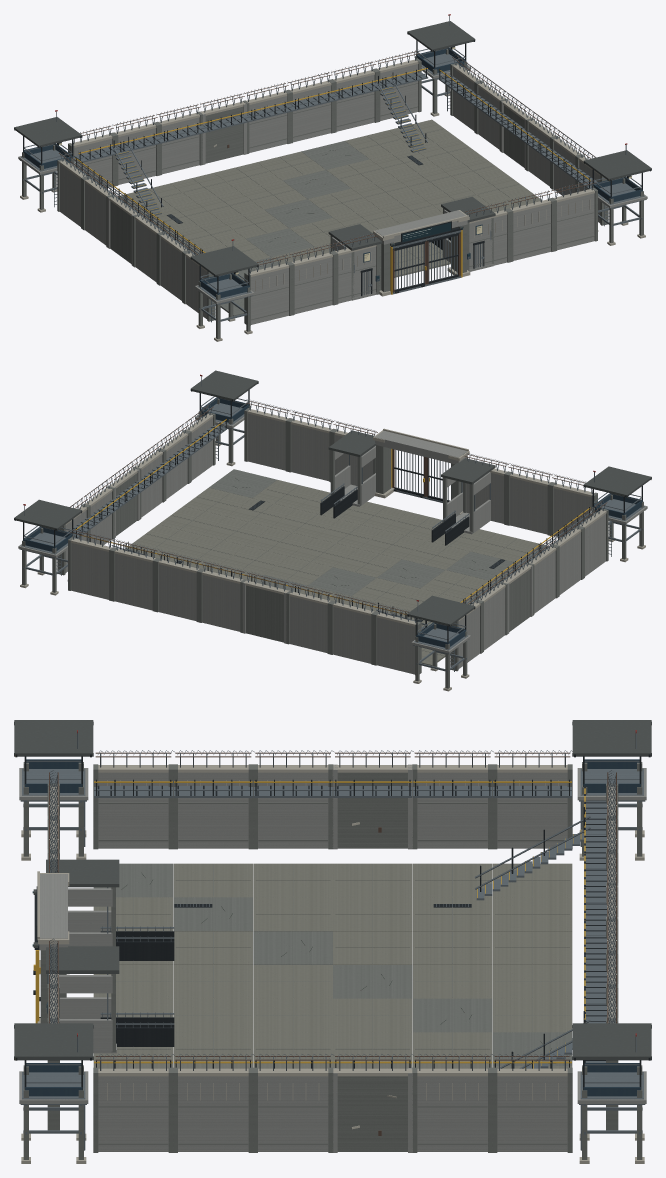
The model's file is PZ_Prison_Gate_Courtyard_RC26.glb.
The picture shows the model from 3 angles, top to bottom: view 1: azimuth 30°, elevation 25°; view 2: azimuth 150°, elevation 25°; view 3: azimuth 270°, elevation 25°; orthographic projection. The views are drawn at different scales.
Visible parts, largest first — view 1: GATEHOUSE_REINFORCED_PORTAL, WALL_S_00_CONCRETE, WALL_S_01_CONCRETE, WALL_S_07_CONCRETE, WALL_S_06_CONCRETE, WALL_N_05_CONCRETE, WALL_N_03_CONCRETE, WALL_N_04_CONCRETE, WALL_N_06_CONCRETE, WALL_N_02_CONCRETE, GATEHOUSE_LEFT_BOOTH_SHELL, WALL_N_01_CONCRETE (+73 smaller); view 2: GATEHOUSE_REINFORCED_PORTAL, WALL_N_03_CONCRETE, GATEHOUSE_LEFT_BOOTH_SHELL, WALL_N_06_CONCRETE, WALL_N_00_CONCRETE, WALL_S_07_CONCRETE, WALL_N_05_CONCRETE, WALL_S_01_CONCRETE, WALL_N_04_CONCRETE, WALL_N_02_CONCRETE, WALL_N_01_CONCRETE, WALL_N_07_CONCRETE (+64 smaller); view 3: WALL_E_00_CONCRETE, WALL_E_01_CONCRETE, WALL_E_02_CONCRETE, WALL_E_04_CONCRETE, WALL_E_05_CONCRETE, WALL_E_03_CONCRETE, WALL_W_00_CONCRETE, WALL_W_01_CONCRETE, WALL_W_02_CONCRETE, WALL_W_03_CONCRETE, WALL_W_04_CONCRETE, WALL_W_05_CONCRETE (+70 smaller).
Part boxes in pixels (x1,y1,x2,y2): GATEHOUSE_REINFORCED_PORTAL: (373, 210, 470, 296); WALL_S_00_CONCRETE: (244, 262, 292, 325); WALL_S_01_CONCRETE: (288, 251, 335, 315); WALL_S_07_CONCRETE: (551, 187, 597, 251); WALL_S_06_CONCRETE: (507, 198, 553, 261); WALL_N_05_CONCRETE: (287, 79, 334, 143); WALL_N_03_CONCRETE: (200, 101, 246, 164); WALL_N_04_CONCRETE: (243, 90, 290, 153); WALL_N_06_CONCRETE: (330, 69, 377, 132); WALL_N_02_CONCRETE: (156, 111, 202, 175); GATEHOUSE_LEFT_BOOTH_SHELL: (328, 224, 381, 300); WALL_N_01_CONCRETE: (112, 122, 159, 185); GATEHOUSE_REINFORCED_PORTAL: (373, 428, 469, 514); WALL_N_03_CONCRETE: (242, 580, 289, 643); GATEHOUSE_LEFT_BOOTH_SHELL: (441, 458, 495, 534); WALL_N_06_CONCRETE: (111, 548, 158, 611); WALL_N_00_CONCRETE: (373, 612, 421, 674); WALL_S_07_CONCRETE: (244, 408, 291, 471); WALL_N_05_CONCRETE: (155, 558, 202, 622); WALL_S_01_CONCRETE: (506, 472, 553, 535); WALL_N_04_CONCRETE: (199, 569, 246, 632); WALL_N_02_CONCRETE: (286, 590, 333, 654); WALL_N_01_CONCRETE: (330, 601, 377, 664); WALL_N_07_CONCRETE: (68, 537, 114, 600); WALL_E_00_CONCRETE: (93, 1067, 173, 1152); WALL_E_01_CONCRETE: (173, 1067, 253, 1152); WALL_E_02_CONCRETE: (253, 1067, 333, 1152); WALL_E_04_CONCRETE: (412, 1067, 492, 1152); WALL_E_05_CONCRETE: (492, 1067, 572, 1152); WALL_E_03_CONCRETE: (332, 1068, 412, 1152); WALL_W_00_CONCRETE: (93, 764, 173, 849); WALL_W_01_CONCRETE: (173, 764, 253, 849); WALL_W_02_CONCRETE: (253, 764, 333, 849); WALL_W_03_CONCRETE: (332, 764, 412, 849); WALL_W_04_CONCRETE: (412, 764, 492, 849); WALL_W_05_CONCRETE: (492, 764, 572, 849).
Size of the model in its own units: 39.99 by 7.24 by 31.99.
1 material, 1 textured.
